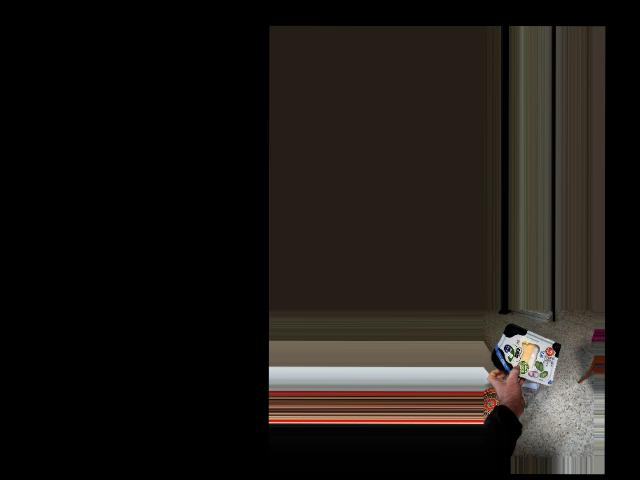cheese: (489, 328, 560, 375)
